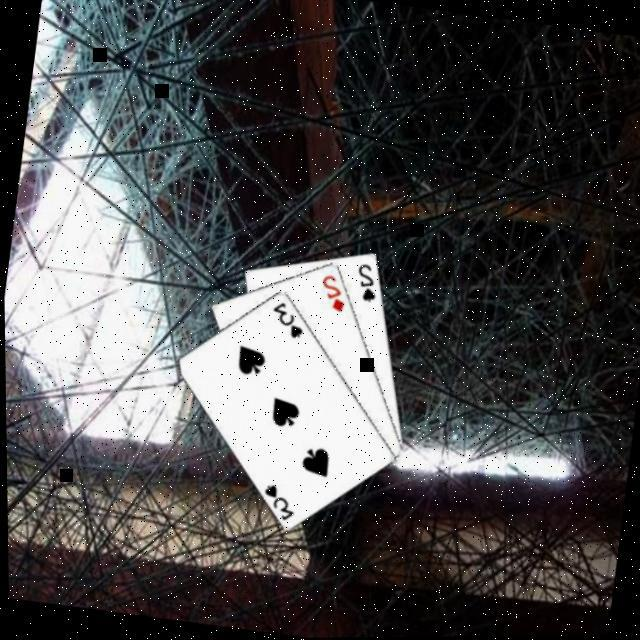2D: (316, 270, 352, 314)
2S: (352, 259, 385, 305)
3S: (267, 297, 311, 342), (258, 479, 302, 524)
